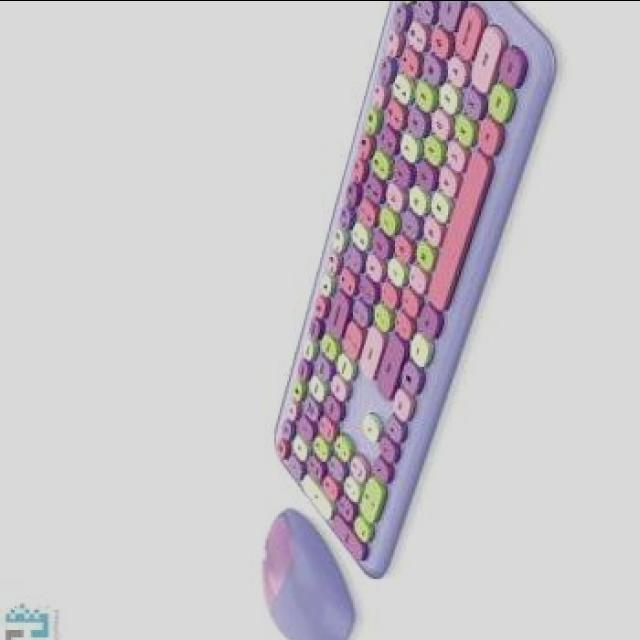keyboard: (264, 0, 562, 585)
